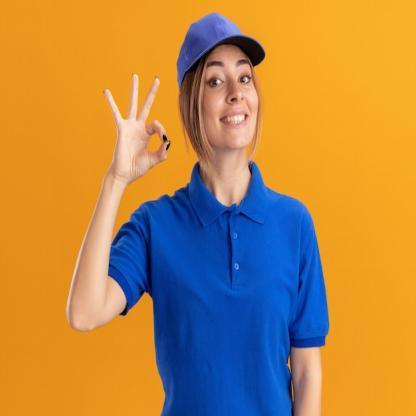ok: (99, 66, 172, 184)
